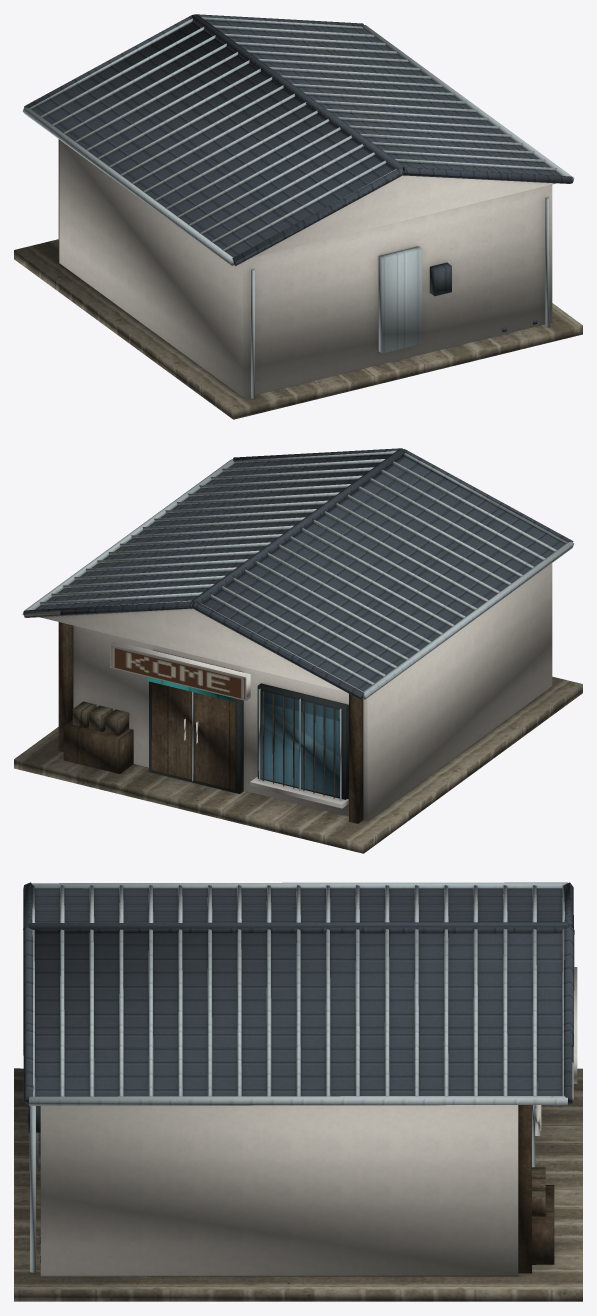
File: shop_002.lod1.obj
The picture shows the model from 3 angles, top to bottom: view 1: azimuth 30°, elevation 25°; view 2: azimuth 150°, elevation 25°; view 3: azimuth 270°, elevation 25°; orthographic projection. The views are drawn at different scales.
Visible parts, largest first — view 1: shop_002; view 2: shop_002; view 3: shop_002.
Boxes of the visible parts, x1,y1,x2,y2 form: shop_002: [14, 14, 582, 419]; shop_002: [14, 448, 582, 853]; shop_002: [14, 882, 582, 1301].
Bounding box in the file's own units: 6.9 × 3.9 × 7.5.
1 material, 1 textured.
